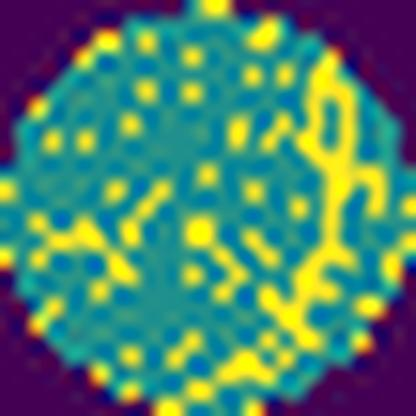Scratch: (149, 46, 391, 416)
